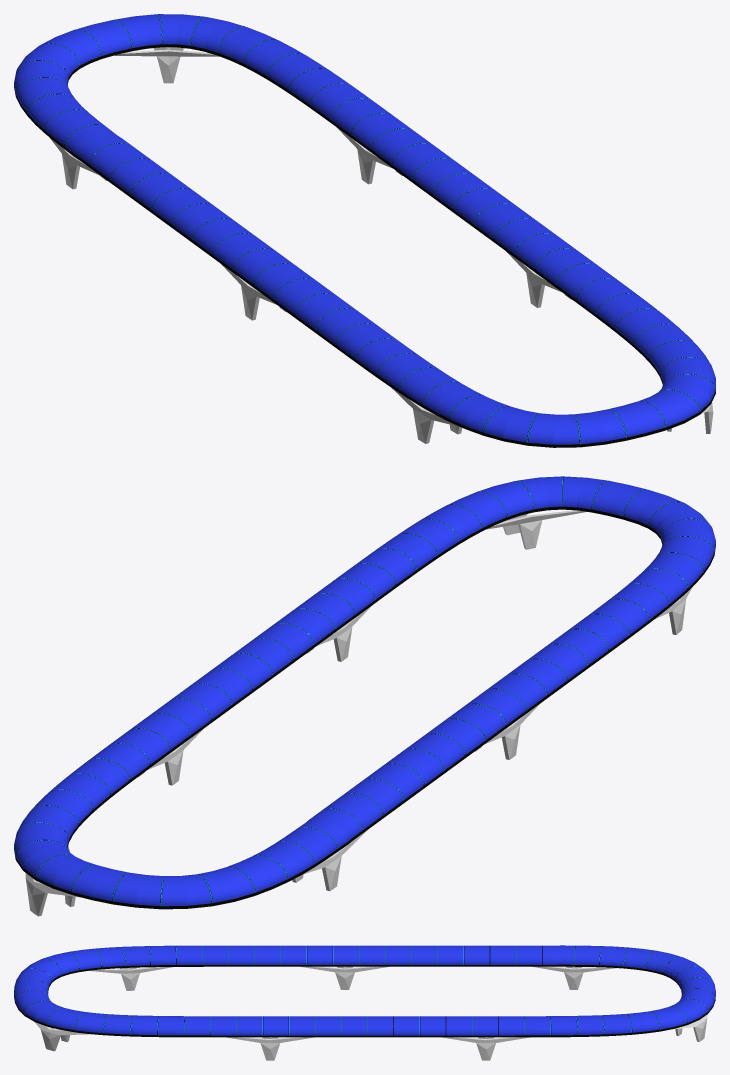
File: carreteraTutorial.fbx
3 views of the same model, one above another, from view 1: azimuth 30°, elevation 25°; view 2: azimuth 150°, elevation 25°; view 3: azimuth 270°, elevation 25° (orthographic). The views are drawn at different scales.
Visible parts, largest first — view 1: carretera, soporte; view 2: carretera, soporte; view 3: carretera, soporte.
Boxes of the visible parts, x1=… form: carretera: x1=14, y1=14, x2=715, y2=447; soporte: x1=49, y1=47, x2=713, y2=443; carretera: x1=14, y1=476, x2=715, y2=909; soporte: x1=25, y1=510, x2=692, y2=916; carretera: x1=14, y1=945, x2=715, y2=1037; soporte: x1=34, y1=966, x2=707, y2=1060.
Bounding box in the file's own units: 168 × 48.24 × 9.48.
